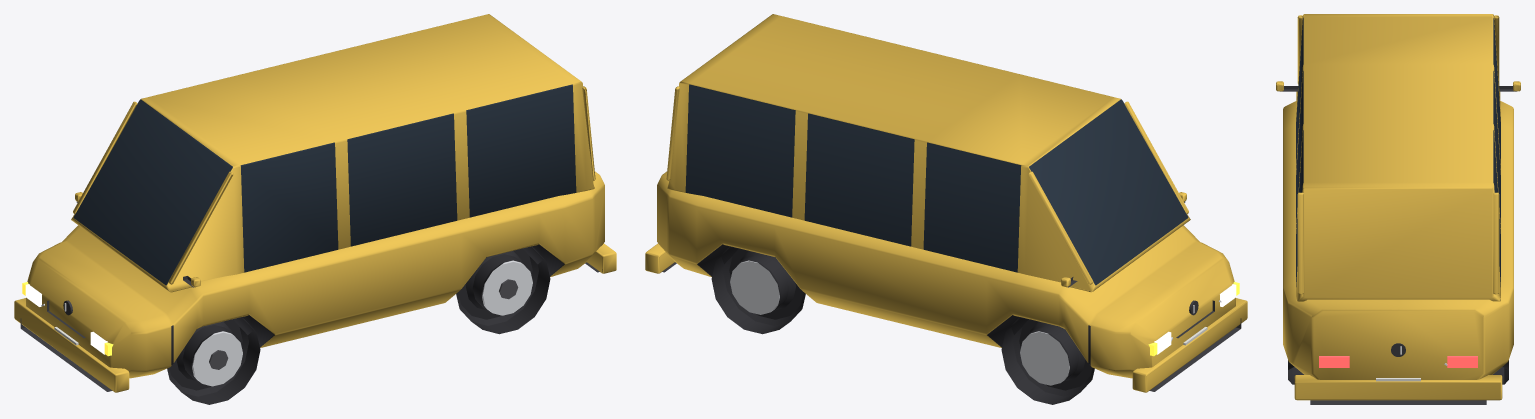
The model's file is mv_minibus.glb.
3 renders of one model, left to right at view 1: azimuth 30°, elevation 25°; view 2: azimuth 150°, elevation 25°; view 3: azimuth 270°, elevation 25°, orthographic. The views are drawn at different scales.
Bounding box in the file's own units: 1.9 × 0.8206 × 0.7851.
